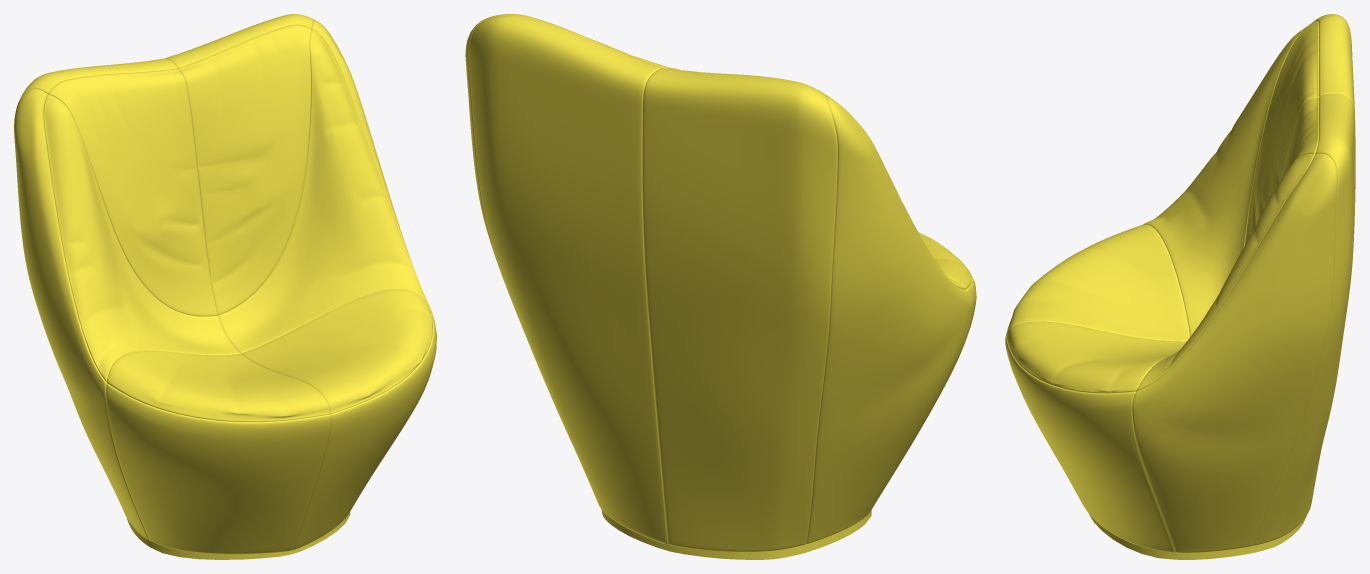
File: chair_08-v2.glb
The picture shows the model from 3 angles, left to right: view 1: azimuth 30°, elevation 25°; view 2: azimuth 150°, elevation 25°; view 3: azimuth 270°, elevation 25°; orthographic projection. The views are drawn at different scales.
Parts seen in each view (by area): view 1: node-0; view 2: node-0; view 3: node-0.
Part boxes in pixels (x1,y1,x2,y2): node-0: (14, 14, 436, 559); node-0: (465, 14, 976, 559); node-0: (1005, 14, 1355, 559).
Bounding box in the file's own units: 0.8452 × 1 × 0.7331.
